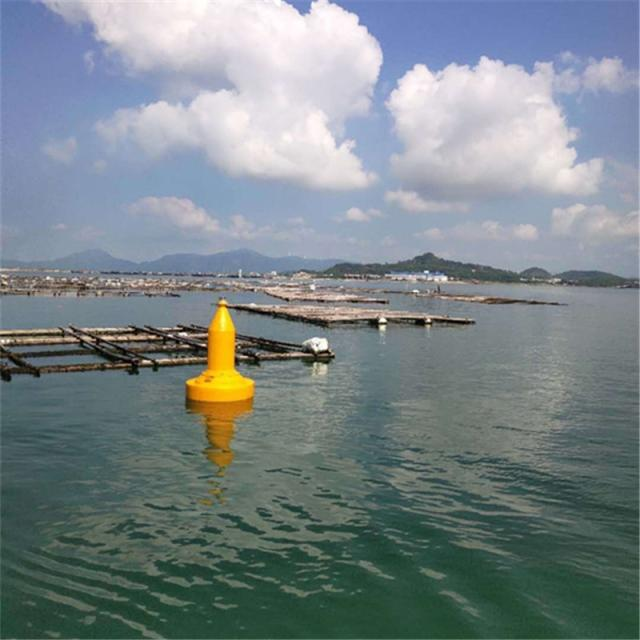buoy: (183, 295, 257, 406)
